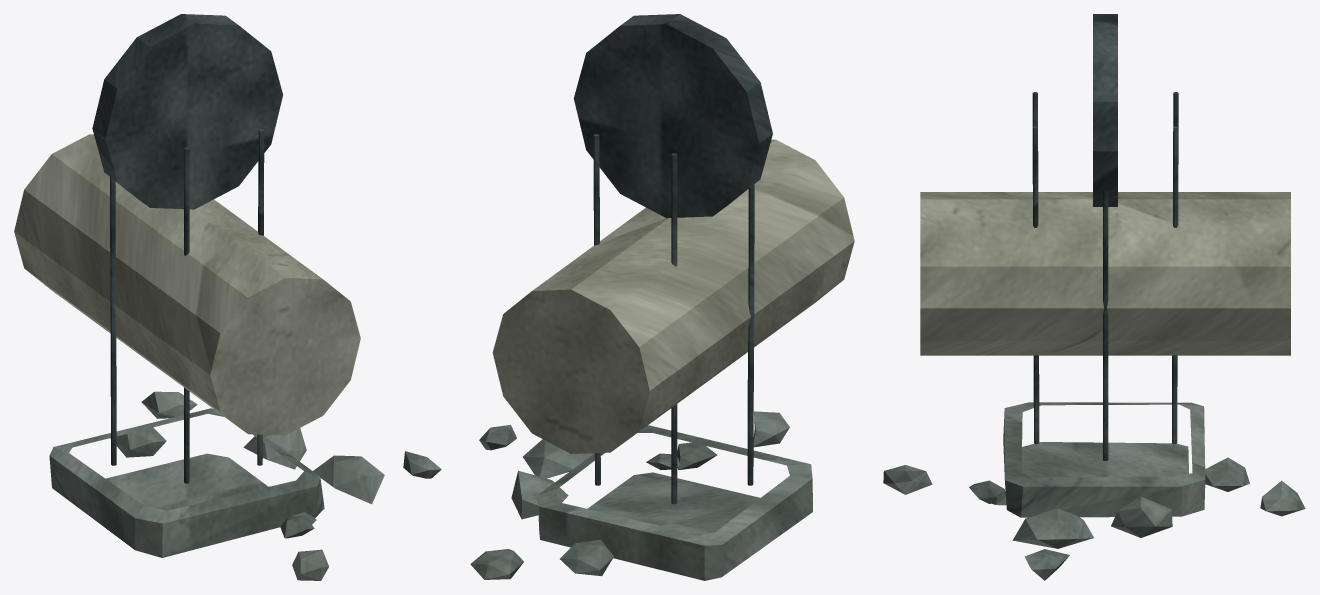
Rendered from 0266_broken_column_16.glb.
3 views of the same model, side by side, from view 1: azimuth 30°, elevation 25°; view 2: azimuth 150°, elevation 25°; view 3: azimuth 270°, elevation 25° (orthographic). The views are drawn at different scales.
Visible parts, largest first — view 1: stone_light, stone_dark, stone; view 2: stone_light, stone_dark, stone; view 3: stone_light, stone, stone_dark.
Boxes of the visible parts, box(x1,y1,x2,y2) form: stone_light: box(14, 134, 360, 435); stone_dark: box(92, 14, 282, 483); stone: box(49, 391, 441, 580); stone_light: box(492, 139, 854, 453); stone_dark: box(573, 14, 772, 504); stone: box(470, 411, 812, 580); stone_light: box(920, 192, 1290, 355); stone: box(883, 402, 1305, 580); stone_dark: box(1032, 14, 1178, 460).
Bounding box in the file's own units: 2.02 × 3.05 × 2.54.
3 materials, 3 textured.
